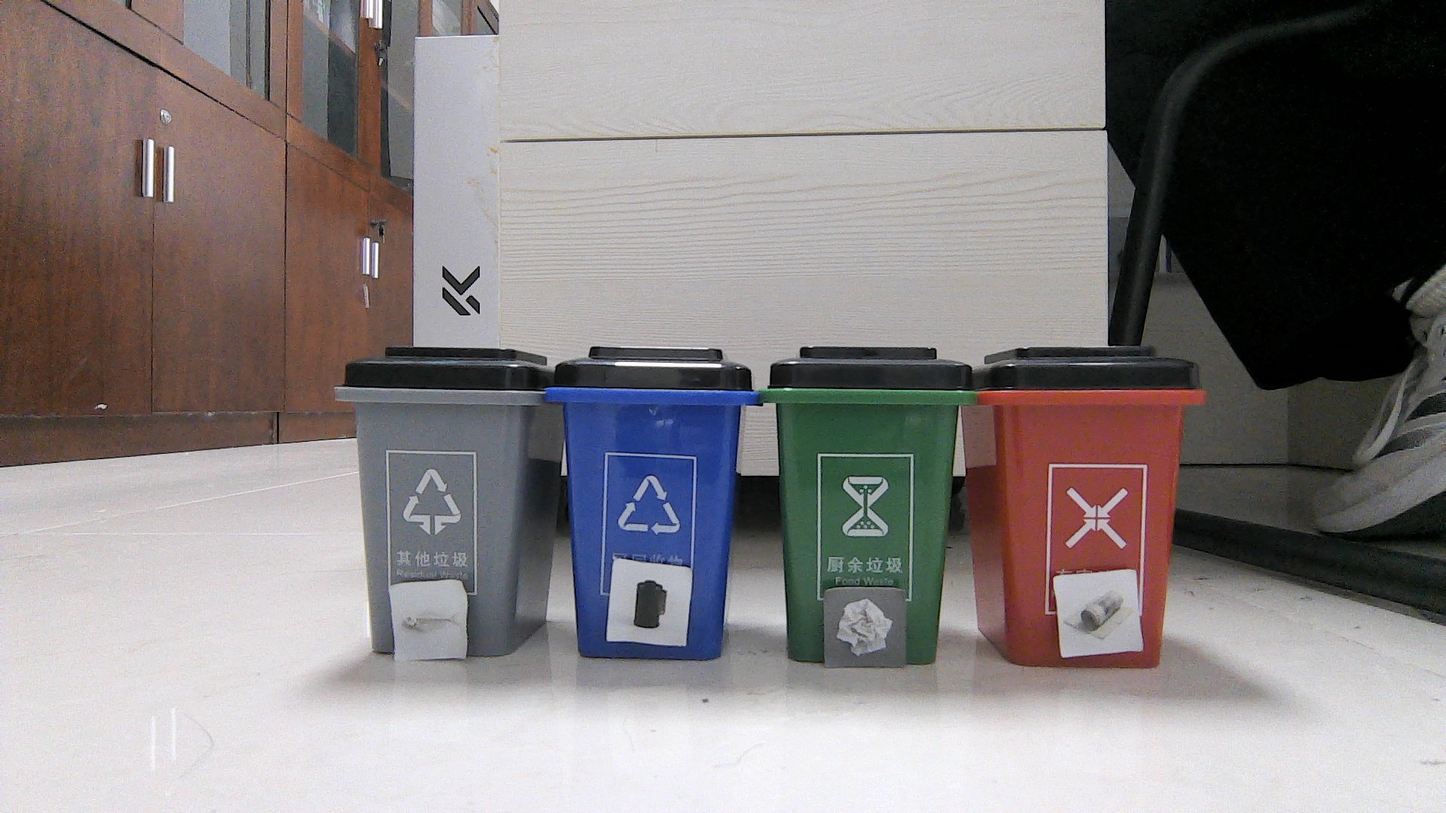food_trash: (395, 584, 463, 658)
hazardous_trash: (617, 566, 682, 640)
other_trash: (828, 590, 902, 661)
recyclable_trash: (1063, 573, 1137, 649)
